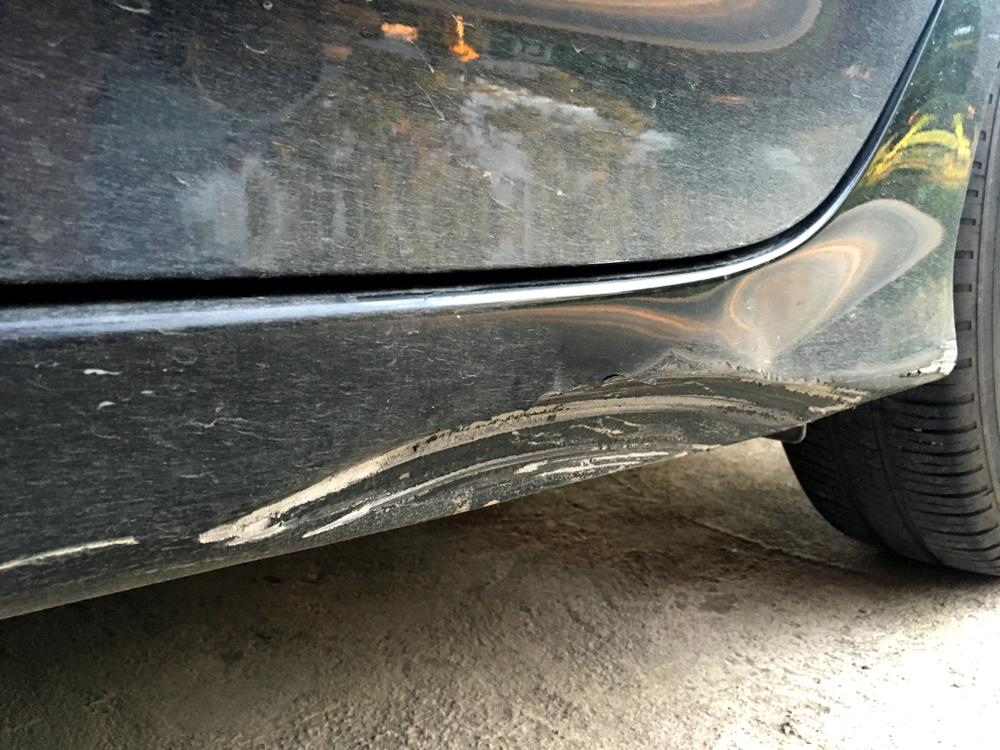dent: (594, 216, 888, 355)
scratch: (180, 373, 866, 576)
